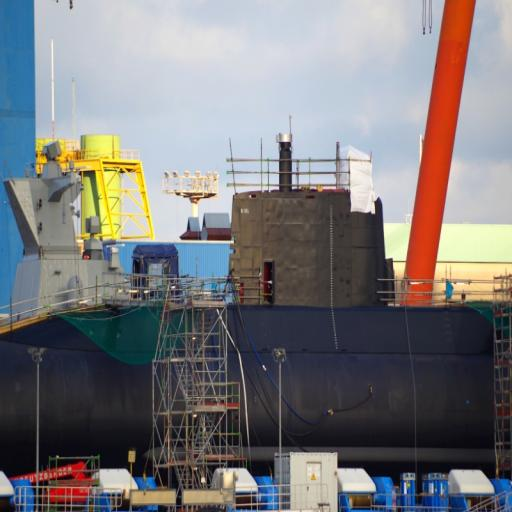submarine: (1, 131, 512, 481)
